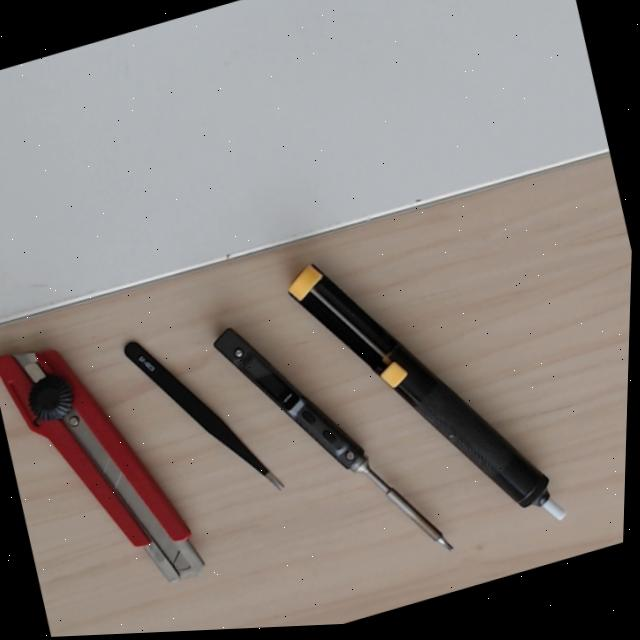Cutter-Besar: (0, 327, 218, 604)
Desoldering-Pump: (283, 261, 578, 535)
Soldering-Iron: (210, 324, 463, 561)
Tweezers: (118, 337, 292, 496)
